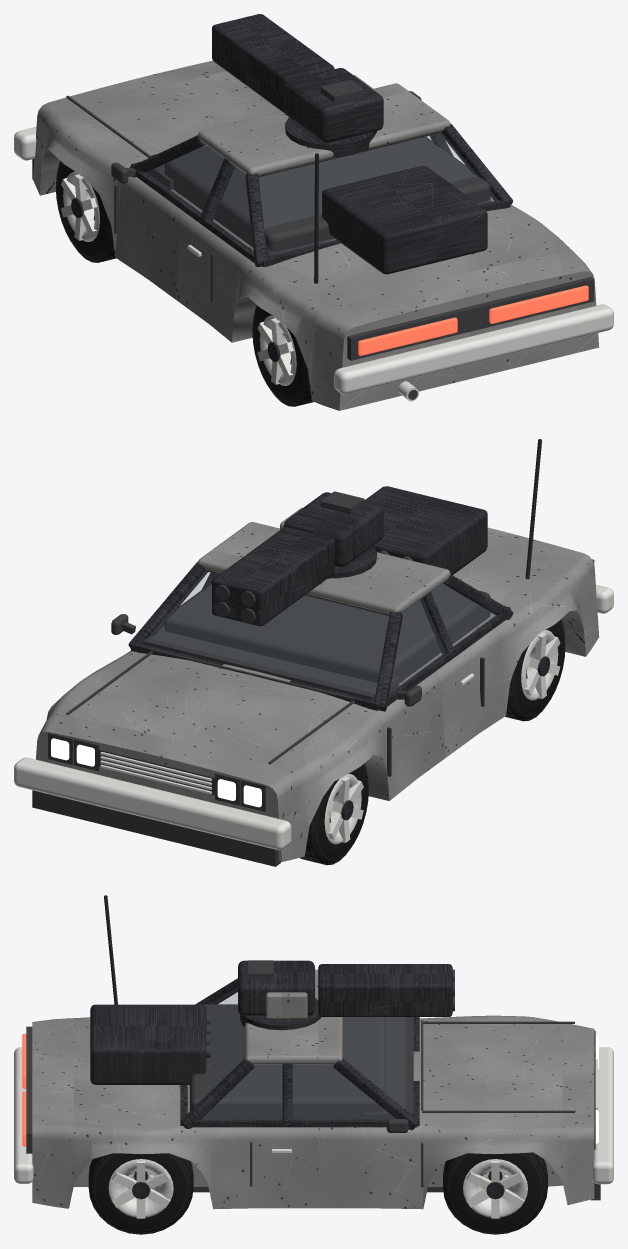
Rendered from enemy_raider_c.glb.
3 renders of one model, top to bottom at view 1: azimuth 30°, elevation 25°; view 2: azimuth 150°, elevation 25°; view 3: azimuth 270°, elevation 25°, orthographic. The views are drawn at different scales.
Visible parts, largest first — view 1: raiderC_Body, Turret, Barrel, Wheel_RL, Wheel_FL; view 2: raiderC_Body, Barrel, Turret, Wheel_FL, Wheel_RL; view 3: raiderC_Body, Wheel_FR, Wheel_RR, Barrel, Turret.
Boxes of the visible parts, x1,y1,x2,y2 form: raiderC_Body: (14, 60, 613, 410); Turret: (284, 68, 383, 156); Barrel: (212, 14, 334, 112); Wheel_RL: (252, 305, 313, 406); Wheel_FL: (55, 161, 116, 262); raiderC_Body: (14, 439, 613, 866); Barrel: (212, 527, 334, 626); Turret: (280, 491, 383, 578); Wheel_FL: (300, 763, 368, 865); Wheel_RL: (505, 619, 565, 721); raiderC_Body: (14, 895, 613, 1209); Wheel_FR: (443, 1152, 547, 1234); Wheel_RR: (88, 1153, 193, 1234); Barrel: (318, 964, 454, 1016); Turret: (238, 960, 321, 1030).
Size of what is drawn, in the model's own units: 2.57 by 2.11 by 4.91.
8 materials, 3 textured.
